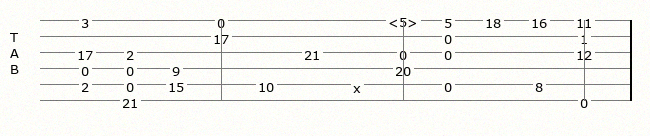0: (81, 62, 93, 75), (126, 62, 138, 75), (126, 78, 138, 91), (217, 14, 229, 27), (399, 46, 411, 59), (444, 30, 456, 43), (444, 46, 456, 59), (444, 78, 456, 91), (580, 94, 592, 107)
1: (580, 30, 592, 43)
10: (258, 78, 278, 91)
11: (576, 14, 596, 27)
12: (576, 46, 596, 59)
15: (168, 78, 188, 91)
16: (531, 14, 551, 27)
17: (77, 46, 97, 59), (213, 30, 233, 43)
18: (485, 14, 505, 27)
2: (81, 78, 93, 91), (126, 46, 138, 59)
20: (395, 62, 415, 75)
21: (122, 94, 142, 107), (304, 46, 324, 59)
3: (81, 14, 93, 27)
5: (444, 14, 456, 27)
8: (535, 78, 547, 91)
9: (172, 62, 184, 75)
harmonic: (388, 13, 422, 27)
x: (353, 79, 365, 90)
